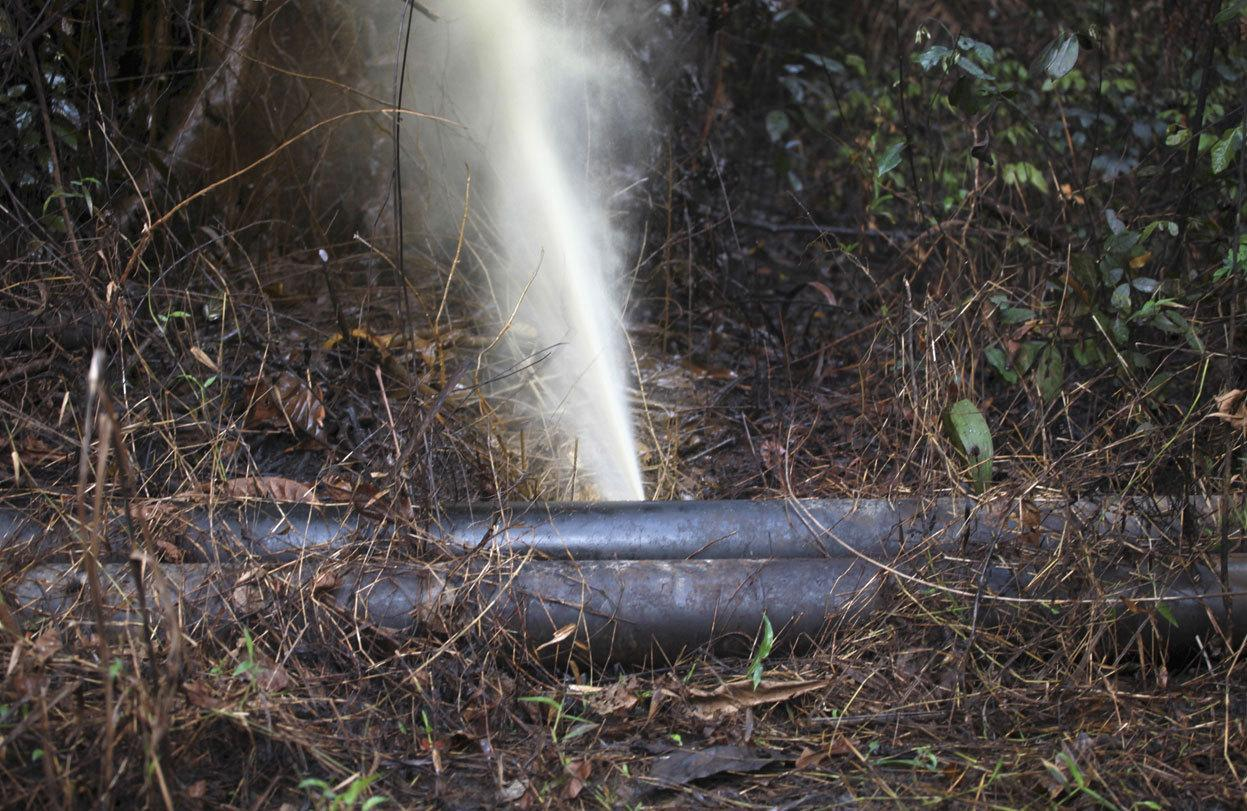pipe burst: (374, 0, 661, 514)
